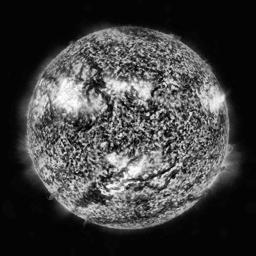solar flares: (53, 83, 83, 114), (106, 76, 126, 96), (203, 90, 221, 112), (108, 151, 126, 167), (133, 82, 149, 98), (129, 162, 143, 177)
sunspots: (82, 185, 104, 205), (128, 29, 154, 43), (73, 119, 92, 131), (91, 73, 104, 90), (105, 106, 116, 120), (183, 78, 194, 92)
